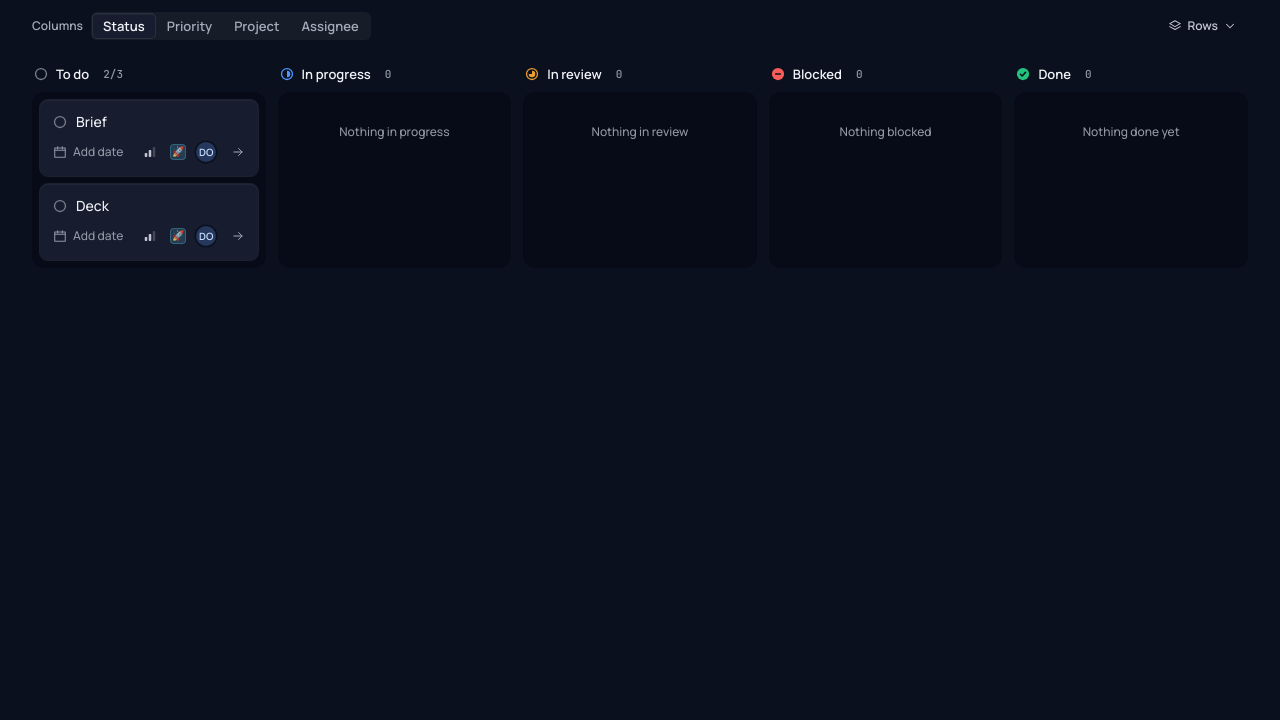
Test case: WIP limits › people who can't change the board's settings see the limit, not an editor
This screenshot has width=1280, height=720.
What coordinates should you click on to do the following:
click the button named "2 tasks in To do, WIP limit 3. Set WIP limit"
I would click on:
 (113, 74)
Its box is [97,64,129,84].
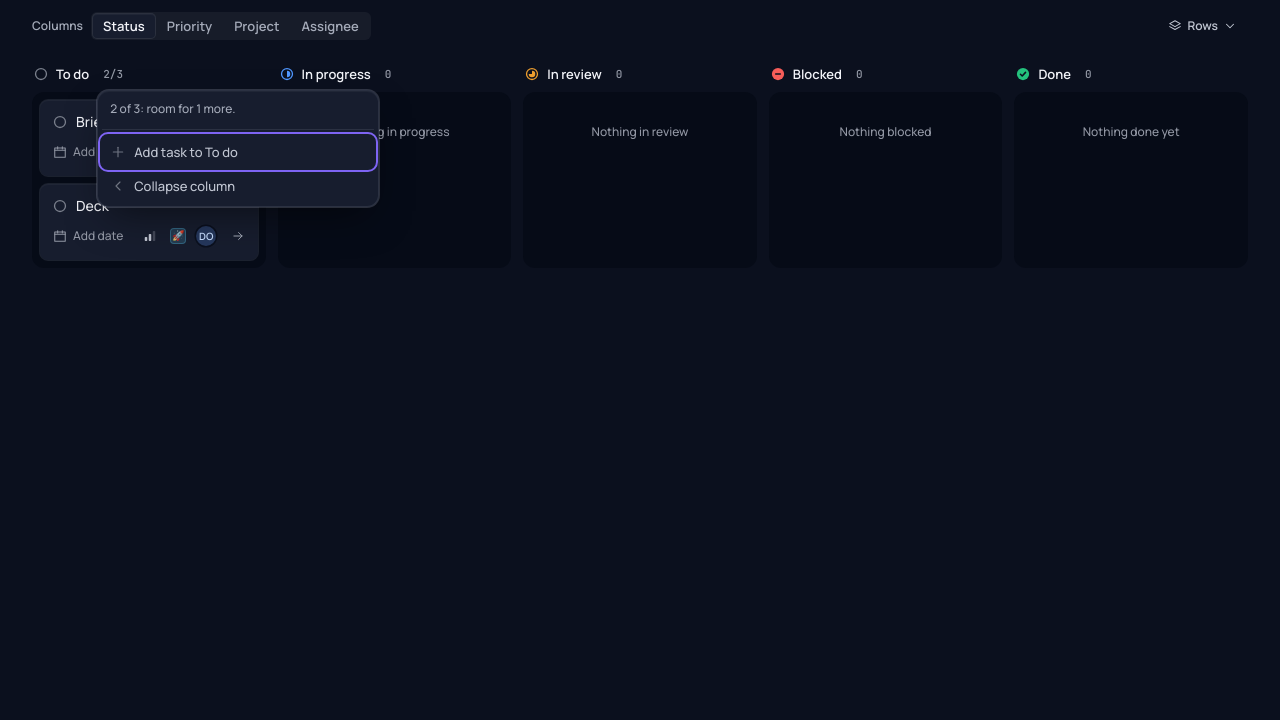
expect the text "2 of 3: room for 1 more." is shown: met, box [110,100,235,117]
